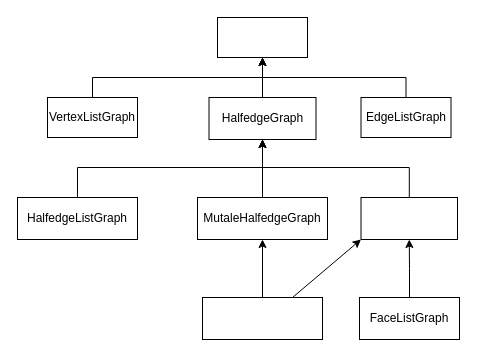
Image size: 477x357. Some labels were removed from this diagram. The shapes that lost their labels are listed below. From the top down, each one's centre as x and y in pixels, then its label:
(x=262, y=37): boost Graph
(x=409, y=218): FaceGraph
(x=262, y=318): MutableFaceGraph
